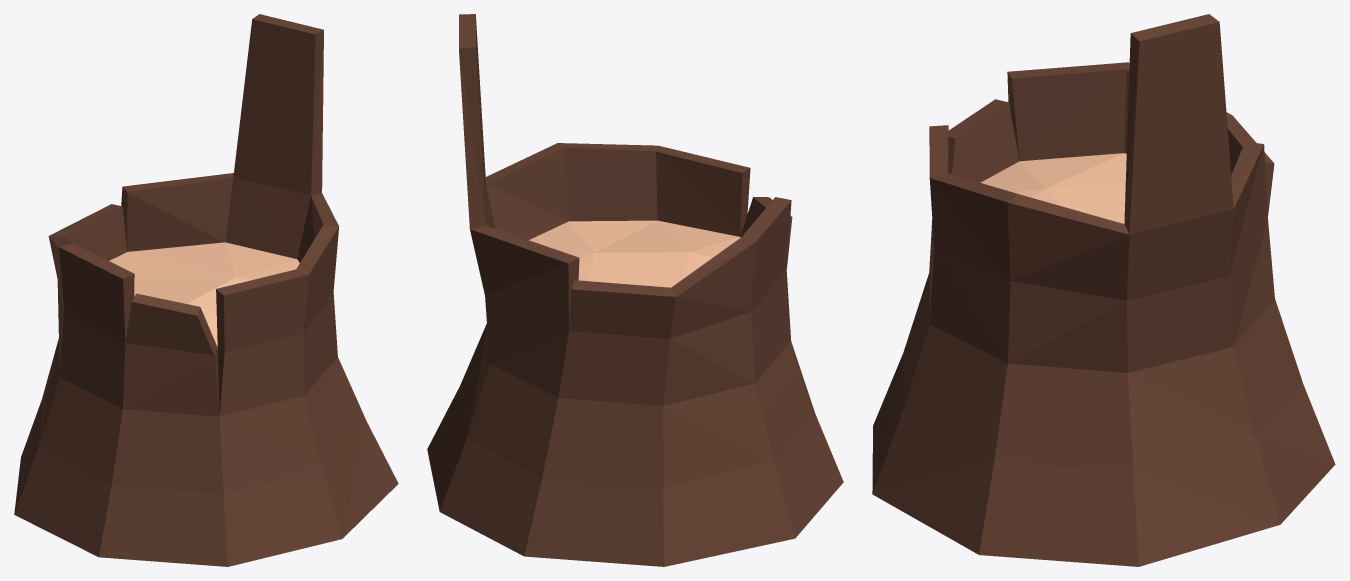
The model's file is TreeTrunk_4.fbx.
The picture shows the model from 3 angles, left to right: view 1: azimuth 30°, elevation 25°; view 2: azimuth 150°, elevation 25°; view 3: azimuth 270°, elevation 25°; orthographic projection. The views are drawn at different scales.
Visible parts, largest first — view 1: TreeTrunk_4; view 2: TreeTrunk_4; view 3: TreeTrunk_4.
Part boxes in pixels (x1,y1,x2,y2): TreeTrunk_4: [14, 14, 398, 566]; TreeTrunk_4: [427, 14, 843, 566]; TreeTrunk_4: [872, 14, 1335, 566].
Bounding box in the file's own units: 0.8572 × 0.988 × 0.8152.
